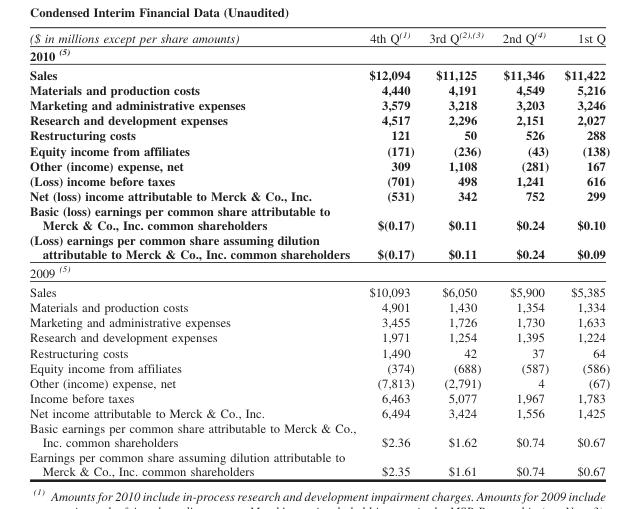table: (29, 29, 609, 478)
table column: (29, 29, 361, 478), (421, 29, 492, 478), (492, 29, 555, 478), (361, 29, 421, 478), (555, 29, 609, 478)
table column header: (29, 29, 609, 45)
table projected row header: (29, 262, 609, 282), (29, 45, 609, 64)
table row: (29, 232, 609, 262), (29, 203, 609, 232), (29, 420, 609, 449), (29, 449, 609, 478), (29, 262, 609, 282), (29, 45, 609, 64), (29, 64, 609, 81), (29, 282, 609, 299), (29, 29, 609, 45), (29, 96, 609, 112), (29, 187, 609, 203), (29, 359, 609, 375), (29, 81, 609, 96), (29, 112, 609, 127), (29, 127, 609, 142), (29, 142, 609, 157), (29, 157, 609, 172), (29, 172, 609, 187), (29, 299, 609, 314), (29, 314, 609, 329), (29, 329, 609, 344), (29, 344, 609, 359), (29, 375, 609, 390), (29, 390, 609, 405), (29, 405, 609, 420)
